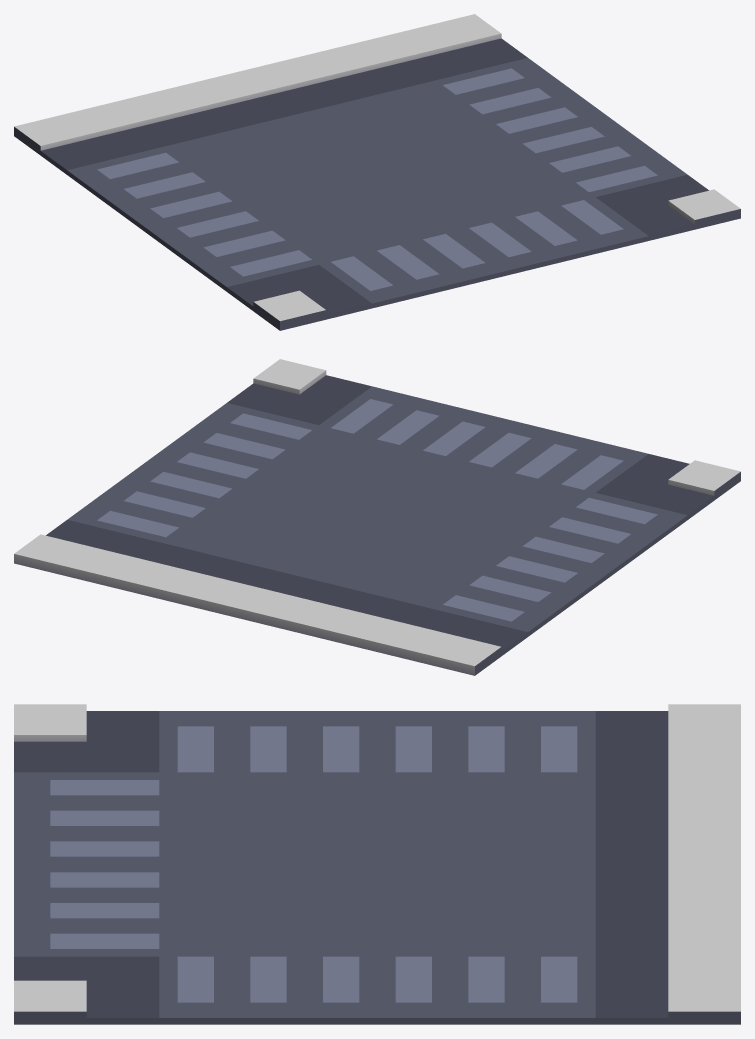
Rendered from road-intersection-path.glb.
The picture shows the model from 3 angles, top to bottom: view 1: azimuth 30°, elevation 25°; view 2: azimuth 150°, elevation 25°; view 3: azimuth 270°, elevation 25°; orthographic projection. The views are drawn at different scales.
Parts seen in each view (by area): view 1: road-intersection-path; view 2: road-intersection-path; view 3: road-intersection-path.
Boxes of the visible parts, box(x1,y1,x2,y2) form: road-intersection-path: box(14, 14, 740, 330); road-intersection-path: box(14, 359, 740, 675); road-intersection-path: box(14, 704, 740, 1024).
Bounding box in the file's own units: 1 × 0.02 × 1.
